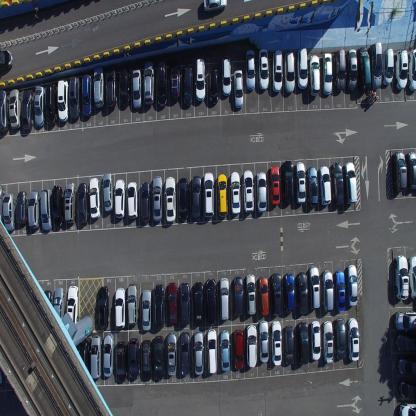car: (356, 45, 372, 90), (394, 254, 409, 301), (346, 316, 360, 361), (8, 87, 22, 130), (393, 150, 407, 192), (216, 173, 229, 218), (321, 268, 334, 313), (51, 184, 64, 229), (318, 165, 332, 206), (126, 282, 139, 326), (344, 160, 357, 204), (33, 83, 46, 127), (308, 53, 321, 97), (151, 176, 163, 223), (206, 328, 218, 375), (153, 334, 165, 380), (153, 284, 165, 330), (270, 320, 282, 366), (97, 284, 109, 330), (102, 331, 114, 377), (242, 168, 254, 214), (282, 159, 294, 205), (332, 160, 344, 206), (306, 165, 319, 207), (192, 281, 204, 326), (90, 334, 102, 379), (69, 75, 81, 120), (194, 57, 206, 102), (205, 277, 216, 326), (232, 328, 245, 369), (66, 284, 79, 325), (77, 339, 90, 380), (21, 90, 34, 131), (395, 49, 408, 90), (244, 272, 256, 316), (270, 272, 282, 316), (296, 271, 308, 315), (297, 321, 309, 365), (308, 266, 320, 310), (322, 320, 334, 364), (128, 336, 140, 380), (114, 286, 126, 330), (115, 339, 127, 383), (64, 180, 76, 224), (81, 73, 93, 117), (271, 49, 283, 93), (296, 46, 308, 90), (321, 52, 333, 96), (40, 288, 53, 328), (165, 176, 176, 223), (218, 276, 230, 319), (169, 58, 181, 101), (89, 176, 101, 219), (346, 264, 358, 307), (77, 182, 89, 225), (57, 79, 69, 122), (244, 49, 256, 92), (334, 49, 346, 92), (157, 56, 167, 107), (203, 171, 214, 217), (166, 330, 177, 376), (179, 330, 190, 376), (394, 309, 416, 332), (232, 275, 244, 317), (283, 324, 295, 366), (334, 318, 346, 360), (105, 66, 117, 108), (118, 66, 130, 108), (191, 174, 202, 219), (230, 170, 241, 215), (193, 330, 204, 375), (246, 323, 257, 368), (258, 47, 269, 92), (347, 47, 358, 92), (334, 270, 346, 311), (28, 189, 40, 230), (131, 68, 143, 109), (220, 55, 232, 96), (372, 41, 382, 90), (258, 318, 269, 362), (143, 60, 154, 104), (167, 282, 178, 326), (219, 328, 230, 372), (257, 275, 269, 315), (53, 286, 65, 326), (3, 192, 15, 232), (141, 289, 152, 332), (284, 50, 295, 93), (284, 272, 295, 314), (256, 170, 267, 212), (269, 164, 280, 206), (295, 162, 306, 204), (45, 82, 56, 124), (93, 66, 104, 108), (102, 172, 113, 213), (310, 320, 321, 361), (178, 176, 188, 220), (114, 178, 125, 218), (180, 282, 190, 326), (396, 333, 416, 355), (396, 378, 416, 400), (208, 65, 219, 105), (183, 64, 193, 107), (127, 180, 138, 219), (5, 346, 16, 385), (142, 339, 152, 381), (41, 188, 51, 230), (396, 356, 416, 377), (140, 181, 150, 222), (383, 48, 394, 85), (0, 88, 9, 133), (233, 68, 243, 108), (16, 190, 27, 226), (406, 150, 415, 192), (203, 0, 228, 15), (408, 255, 416, 299), (0, 49, 14, 73), (408, 48, 415, 94), (398, 400, 416, 416), (0, 349, 5, 386), (0, 184, 4, 225)
